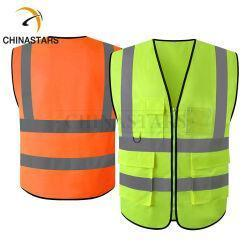vest: (109, 33, 239, 232), (9, 35, 123, 201)
